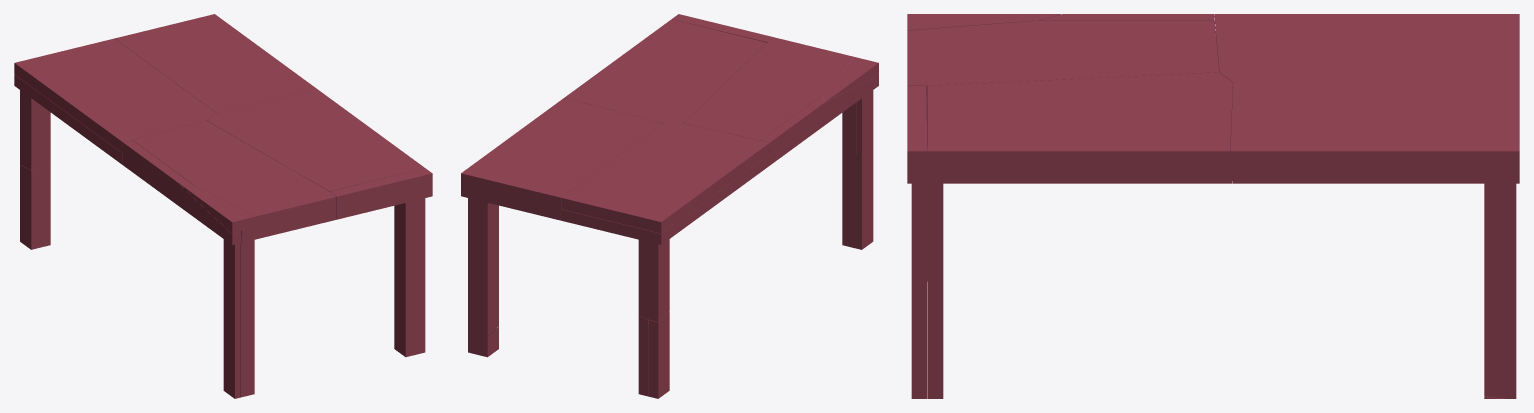
File: TableShatter.fbx
The picture shows the model from 3 angles, left to right: view 1: azimuth 30°, elevation 25°; view 2: azimuth 150°, elevation 25°; view 3: azimuth 270°, elevation 25°; orthographic projection. The views are drawn at different scales.
Visible parts, largest first — view 1: Cube.000_cell.003, Cube.000_cell.005, Cube.000_cell.008, Cube.000_cell.004, Cube.000_cell, Cube.000_cell.009, Cube.000_cell.006, Cube.000_cell.001, Cube.000_cell.007, Cube.000_cell.002; view 2: Cube.000_cell.004, Cube.000_cell.008, Cube.000_cell.005, Cube.000_cell.003, Cube.000_cell.009, Cube.000_cell.006, Cube.000_cell.001, Cube.000_cell.007, Cube.000_cell.002, Cube.000_cell, Cube.000_cell.010; view 3: Cube.000_cell.004, Cube.000_cell.005, Cube.000_cell.008, Cube.000_cell.003, Cube.000_cell, Cube.000_cell.007, Cube.000_cell.009.
Boxes of the visible parts, box(x1,y1,x2,y2) form: Cube.000_cell.003: box(132, 120, 336, 397); Cube.000_cell.005: box(206, 89, 424, 352); Cube.000_cell.008: box(14, 38, 215, 152); Cube.000_cell.004: box(115, 14, 317, 112); Cube.000_cell: box(330, 168, 432, 357); Cube.000_cell.009: box(122, 140, 241, 398); Cube.000_cell.006: box(14, 74, 122, 169); Cube.000_cell.001: box(20, 165, 40, 249); Cube.000_cell.007: box(178, 182, 255, 233); Cube.000_cell.002: box(41, 163, 50, 247); Cube.000_cell.004: box(461, 98, 662, 352); Cube.000_cell.008: box(561, 123, 769, 233); Cube.000_cell.005: box(564, 19, 766, 123); Cube.000_cell.003: box(683, 37, 856, 248); Cube.000_cell.009: box(761, 75, 878, 249); Cube.000_cell.006: box(560, 155, 769, 321); Cube.000_cell.001: box(648, 311, 669, 398); Cube.000_cell.007: box(823, 57, 878, 102); Cube.000_cell.002: box(638, 316, 648, 396); Cube.000_cell: box(672, 14, 773, 42); Cube.000_cell.010: box(469, 326, 498, 357); Cube.000_cell.004: box(1230, 82, 1519, 398); Cube.000_cell.005: box(927, 72, 1232, 398); Cube.000_cell.008: box(1214, 14, 1519, 83); Cube.000_cell.003: box(907, 20, 1219, 281); Cube.000_cell: box(907, 86, 927, 398); Cube.000_cell.007: box(907, 14, 1060, 30); Cube.000_cell.009: box(1030, 14, 1215, 27).
Size of the model in its own units: 174 by 148 by 327.
